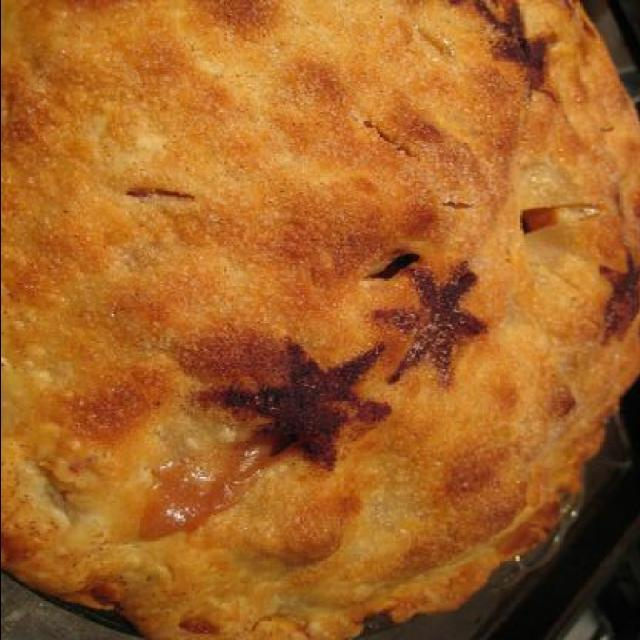Apple: (1, 5, 632, 633)
